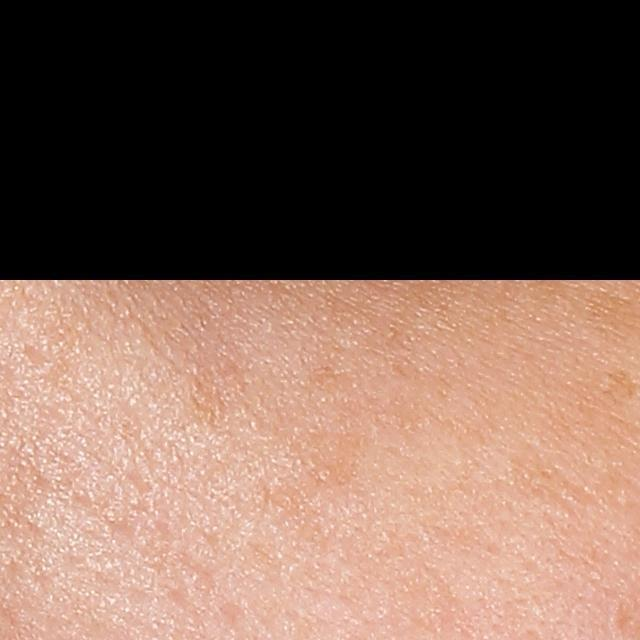melasma: (184, 355, 248, 441), (599, 371, 637, 402)
